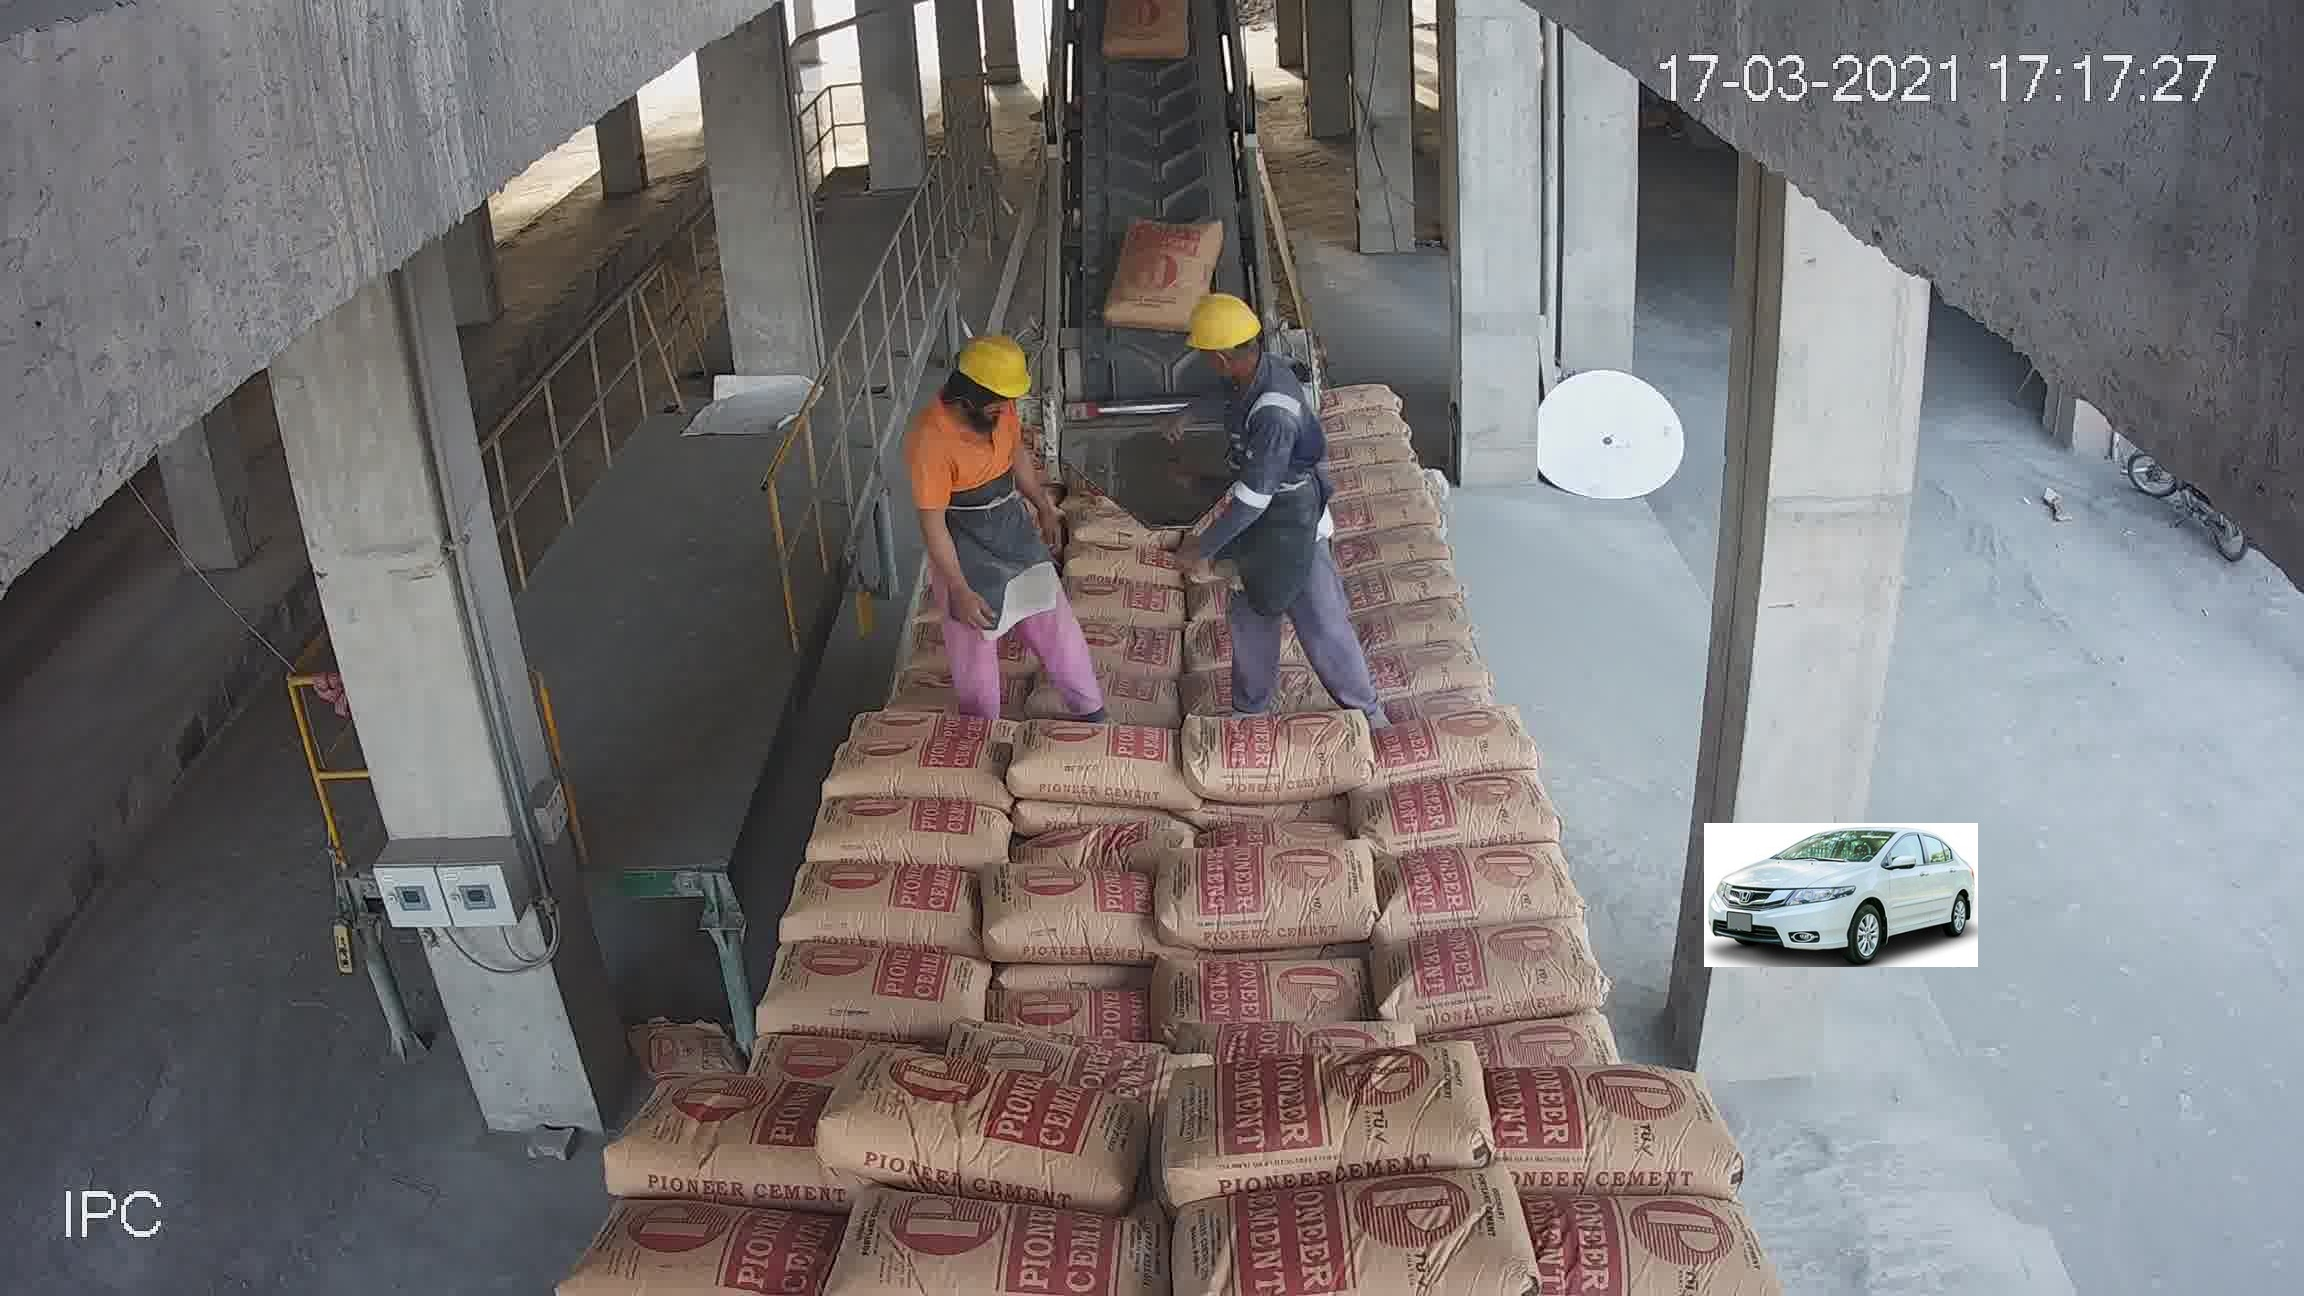bag: (1105, 217, 1220, 321)
bag_h: (1166, 1033, 1500, 1196), (805, 1054, 1163, 1196), (1182, 1154, 1537, 1294), (1461, 1062, 1734, 1203), (839, 1195, 1176, 1294), (571, 1188, 836, 1296), (606, 1073, 817, 1207), (1158, 840, 1397, 948), (1502, 1184, 1745, 1285), (1381, 918, 1600, 1024), (761, 945, 999, 1036), (1377, 836, 1570, 946), (786, 855, 983, 954), (1152, 934, 1372, 1021), (1359, 764, 1560, 858), (976, 862, 1161, 961), (1005, 717, 1190, 807), (804, 794, 1019, 870), (942, 1035, 1193, 1100), (1421, 1000, 1617, 1079), (821, 728, 1013, 809), (1182, 718, 1366, 802), (1182, 1017, 1435, 1074), (1003, 972, 1165, 1048), (1378, 703, 1519, 783), (1019, 818, 1188, 880), (1052, 573, 1199, 638), (1057, 533, 1192, 597), (1063, 619, 1185, 676), (1358, 598, 1478, 652), (1375, 644, 1499, 696), (1362, 563, 1465, 616), (1348, 491, 1442, 544), (1336, 454, 1427, 506), (1340, 529, 1453, 570), (1336, 404, 1412, 446), (1328, 383, 1408, 419)
belt: (1044, 25, 1271, 467)
